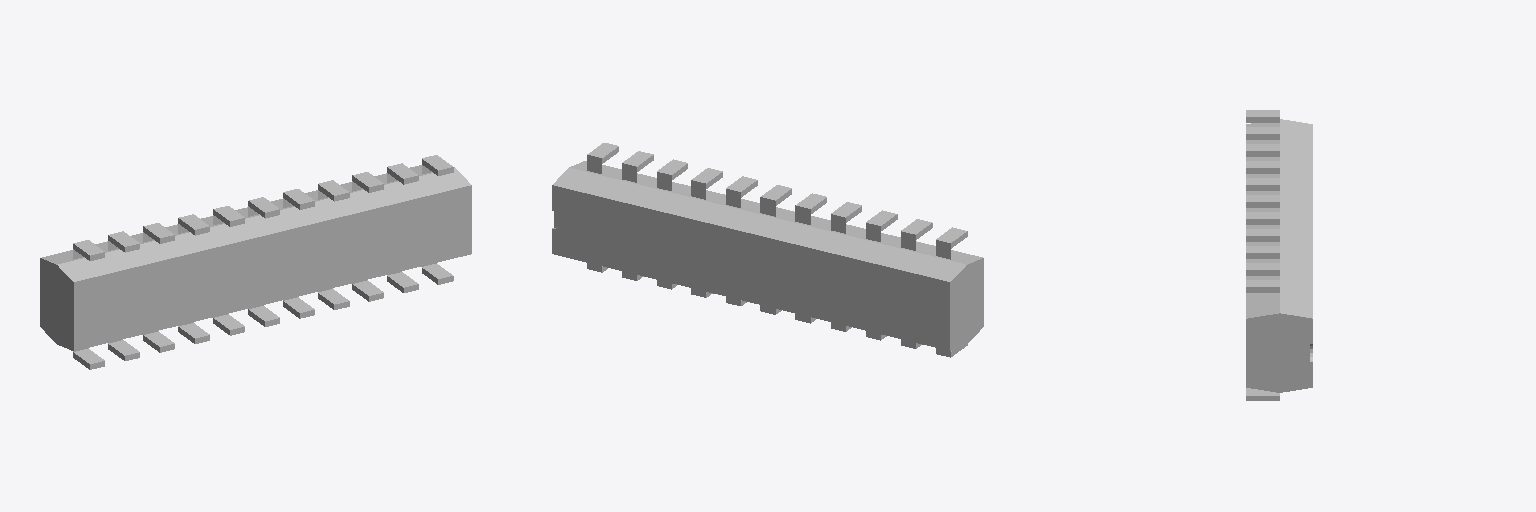
File: Dil-22-3.obj
The picture shows the model from 3 angles: view 1: azimuth 30°, elevation 25°; view 2: azimuth 150°, elevation 25°; view 3: azimuth 270°, elevation 25°; orthographic projection.
Visible parts, largest first — view 1: ShapeIndexedFaceSet.045_ShapeIndexedFaceSet.046; view 2: ShapeIndexedFaceSet.045_ShapeIndexedFaceSet.046, ShapeIndexedFaceSet.046_ShapeIndexedFaceSet; view 3: ShapeIndexedFaceSet.045_ShapeIndexedFaceSet.046.
Part boxes in pixels (x1,y1,x2,y2): ShapeIndexedFaceSet.045_ShapeIndexedFaceSet.046: (40,165,471,350); ShapeIndexedFaceSet.045_ShapeIndexedFaceSet.046: (552,161,983,350); ShapeIndexedFaceSet.046_ShapeIndexedFaceSet: (568,195,706,285); ShapeIndexedFaceSet.045_ShapeIndexedFaceSet.046: (1246,119,1312,392).
Size of the model in its own units: 29.21 by 8.02 by 4.26.